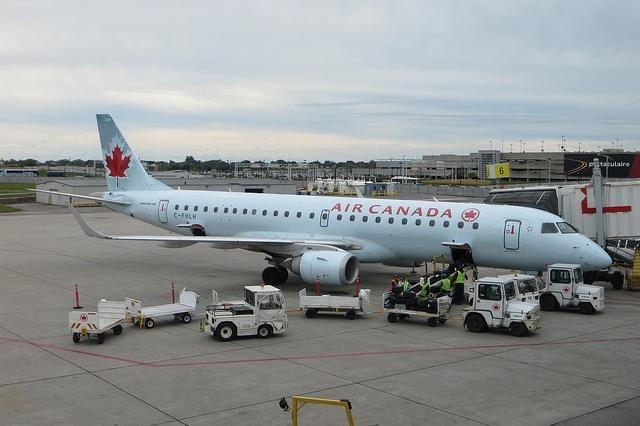truck: (201, 284, 289, 342), (464, 276, 542, 336), (536, 260, 604, 314)
